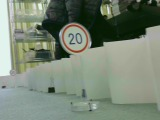speed_20: (58, 21, 91, 55)
